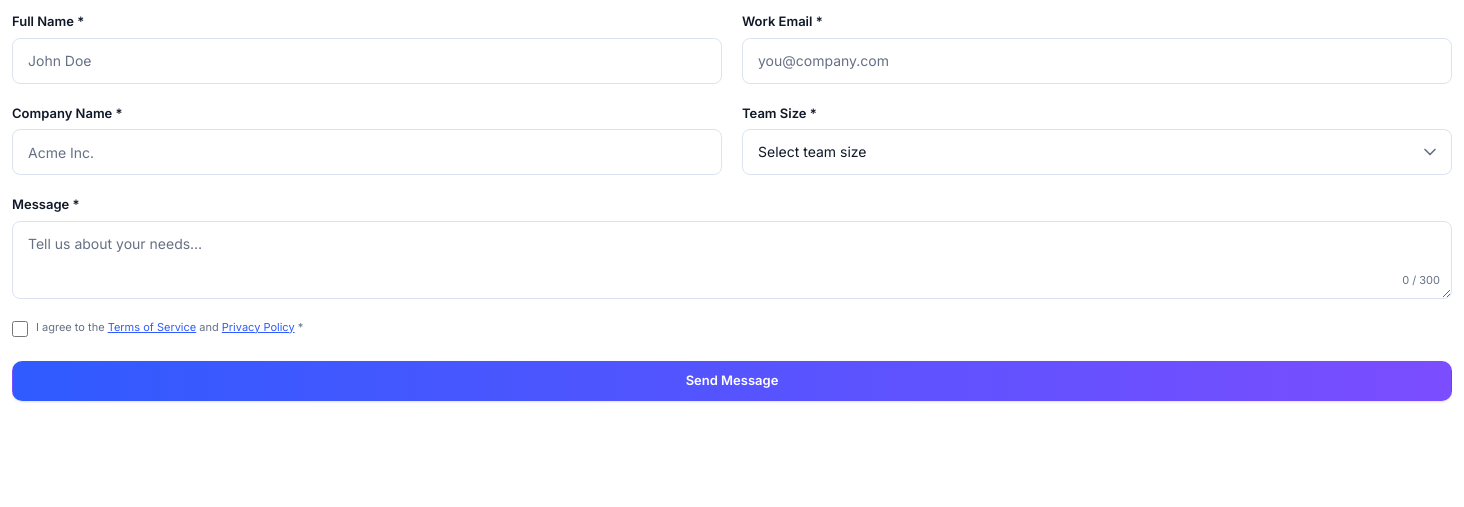
Test: an empty form cannot be submitted and shows an error for every required field
The width and height of the screenshot is (1464, 507).
Click the button "Send Message" at (732, 380), box [12,360,1452,400]
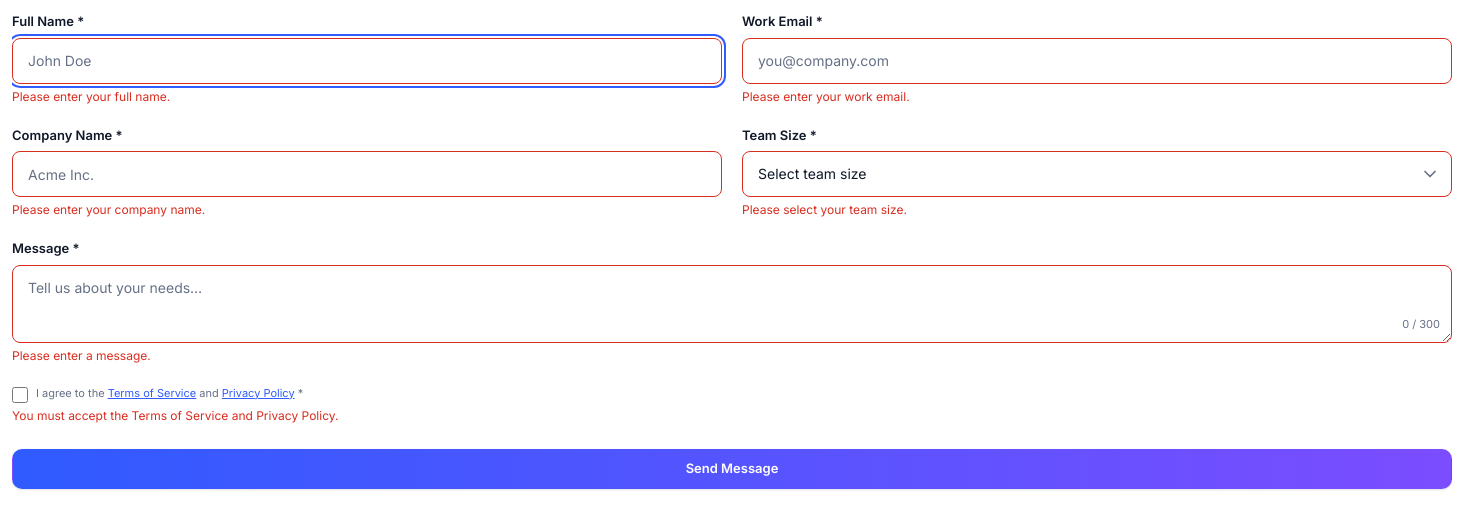
Now the text "Please enter your full name." is shown, box [12,88,170,104]
Now the text "Please enter your work email." is shown, box [742,88,910,104]
Now the text "Please enter your company name." is shown, box [12,202,205,217]
